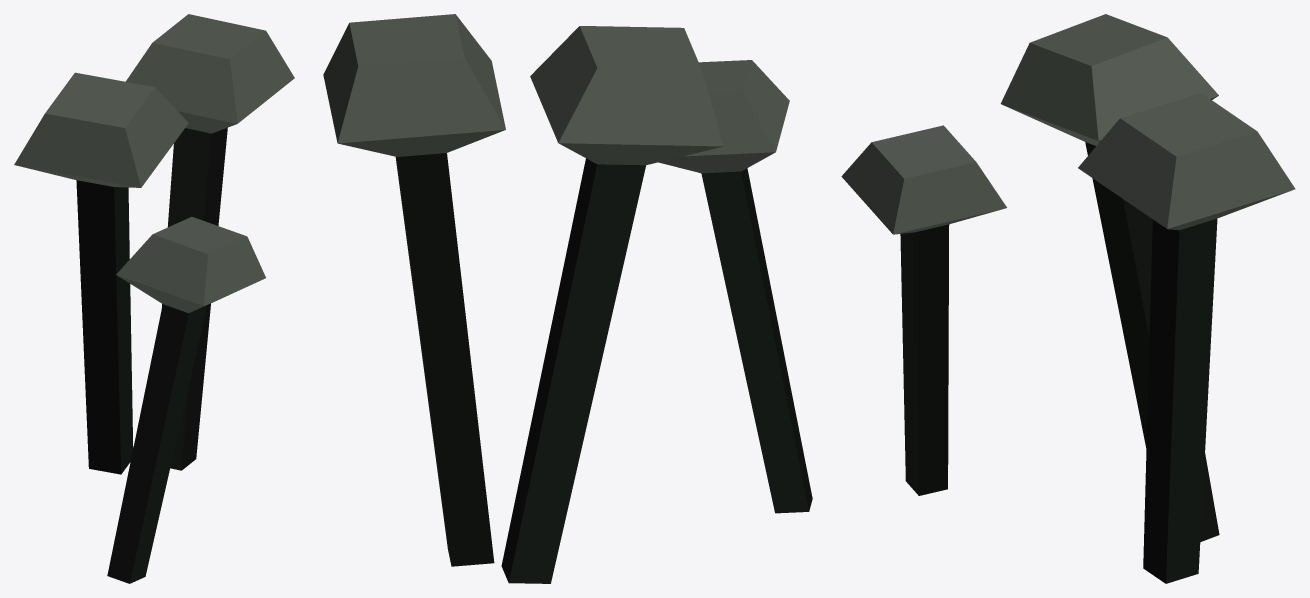
Rendered from SF_Env_Elven_Flower_03.glb.
3 views of the same model, side by side, from view 1: azimuth 30°, elevation 25°; view 2: azimuth 150°, elevation 25°; view 3: azimuth 270°, elevation 25° (orthographic). The views are drawn at different scales.
Visible parts, largest first — view 1: SF_Env_Elven_Flower_03; view 2: SF_Env_Elven_Flower_03; view 3: SF_Env_Elven_Flower_03.
Boxes of the visible parts, x1,y1,x2,y2 form: SF_Env_Elven_Flower_03: (14, 14, 294, 583); SF_Env_Elven_Flower_03: (323, 14, 812, 583); SF_Env_Elven_Flower_03: (841, 14, 1295, 583).
Bounding box in the file's own units: 0.01 × 0.0132 × 0.0113.
Materials: 1 (1 with a texture image).
